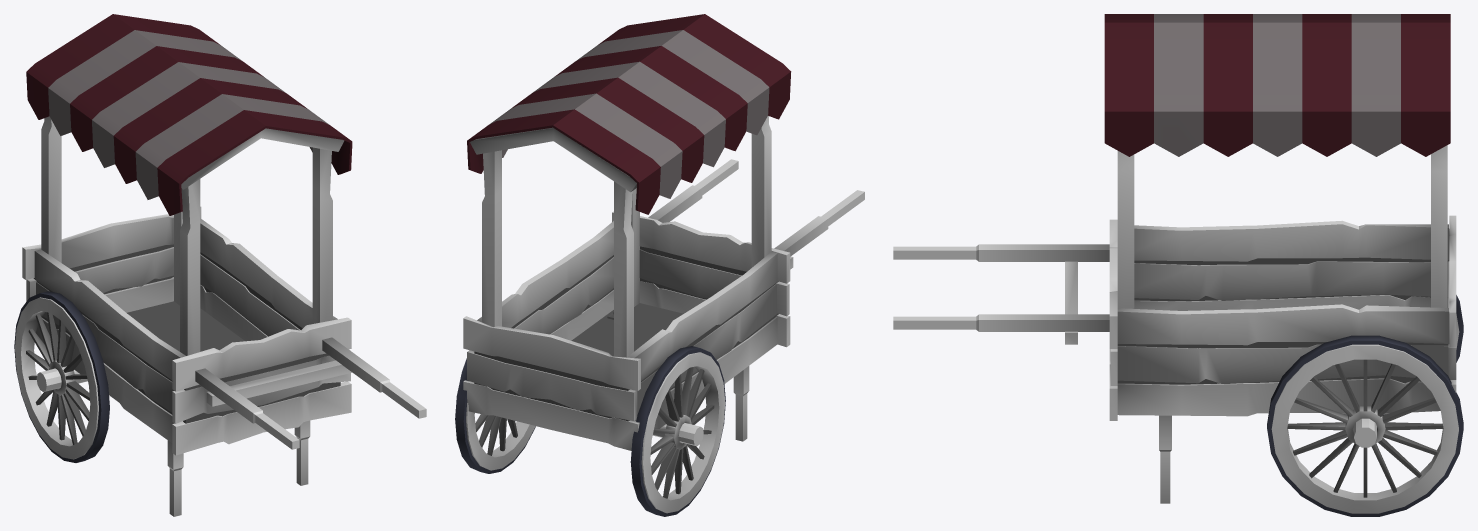
Rendered from pq_charrette_auvent.glb.
The picture shows the model from 3 angles, left to right: view 1: azimuth 30°, elevation 25°; view 2: azimuth 150°, elevation 25°; view 3: azimuth 270°, elevation 25°; orthographic projection. The views are drawn at different scales.
Visible parts, largest first — view 1: Cart; view 2: Cart; view 3: Cart.
Part boxes in pixels (x1=…): Cart: x1=14, y1=14, x2=426, y2=516; Cart: x1=455, y1=14, x2=864, y2=516; Cart: x1=893, y1=14, x2=1463, y2=516.
Size of the model in its own units: 1.16 by 2 by 2.33.
